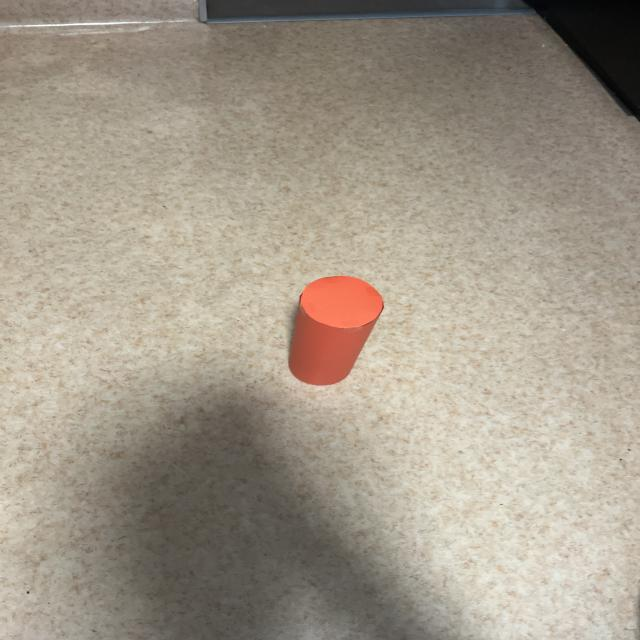przeszkoda: (289, 276, 383, 385)
